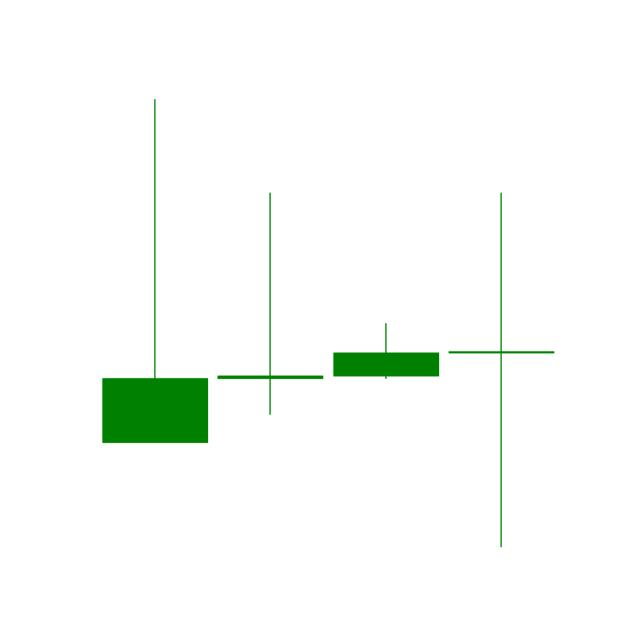Long-Legged Doji: (447, 185, 556, 558)
